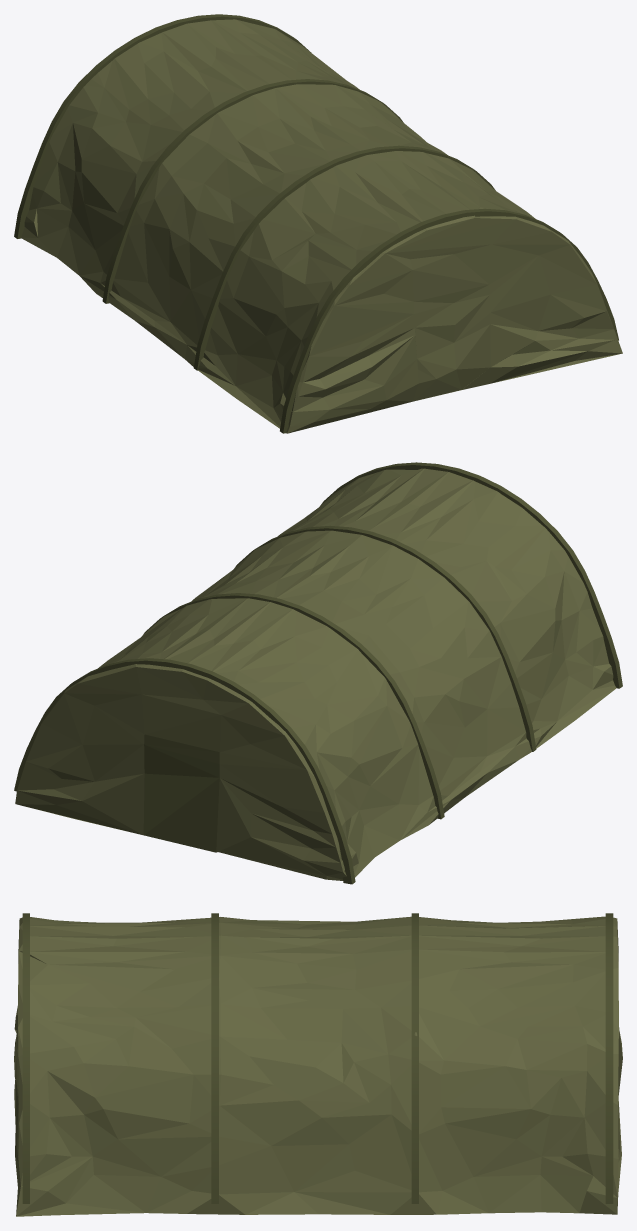
File: model_military_tent.fbx
The picture shows the model from 3 angles, top to bottom: view 1: azimuth 30°, elevation 25°; view 2: azimuth 150°, elevation 25°; view 3: azimuth 270°, elevation 25°; orthographic projection. The views are drawn at different scales.
Parts seen in each view (by area): view 1: model_military_tent; view 2: model_military_tent; view 3: model_military_tent.
Boxes of the visible parts, x1=… form: model_military_tent: x1=14, y1=14, x2=622, y2=433; model_military_tent: x1=14, y1=462, x2=622, y2=884; model_military_tent: x1=14, y1=913, x2=622, y2=1216.
Bounding box in the file's own units: 749 × 377 × 1068.
Materials: 1 (1 with a texture image).
